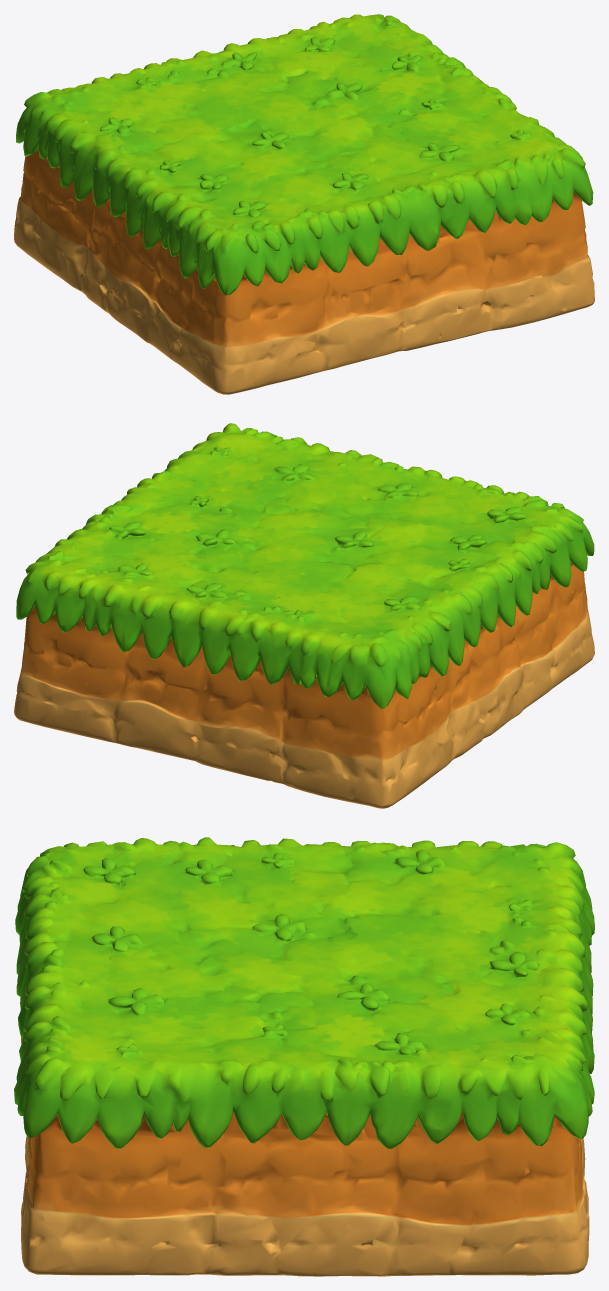
Rendered from texture.glb.
3 views of the same model, one above another, from view 1: azimuth 30°, elevation 25°; view 2: azimuth 150°, elevation 25°; view 3: azimuth 270°, elevation 25° (orthographic). The views are drawn at different scales.
Parts seen in each view (by area): view 1: tripo_node_1b366a28-11d5-465c-a05a-eec0c2806613; view 2: tripo_node_1b366a28-11d5-465c-a05a-eec0c2806613; view 3: tripo_node_1b366a28-11d5-465c-a05a-eec0c2806613.
Boxes of the visible parts, left/top/right/bottom form: tripo_node_1b366a28-11d5-465c-a05a-eec0c2806613: left=14, top=14, right=594, bottom=394; tripo_node_1b366a28-11d5-465c-a05a-eec0c2806613: left=14, top=423, right=594, bottom=808; tripo_node_1b366a28-11d5-465c-a05a-eec0c2806613: left=14, top=837, right=594, bottom=1276.
Bounding box in the file's own units: 1 × 0.3904 × 0.9798.
1 material, 1 textured.
